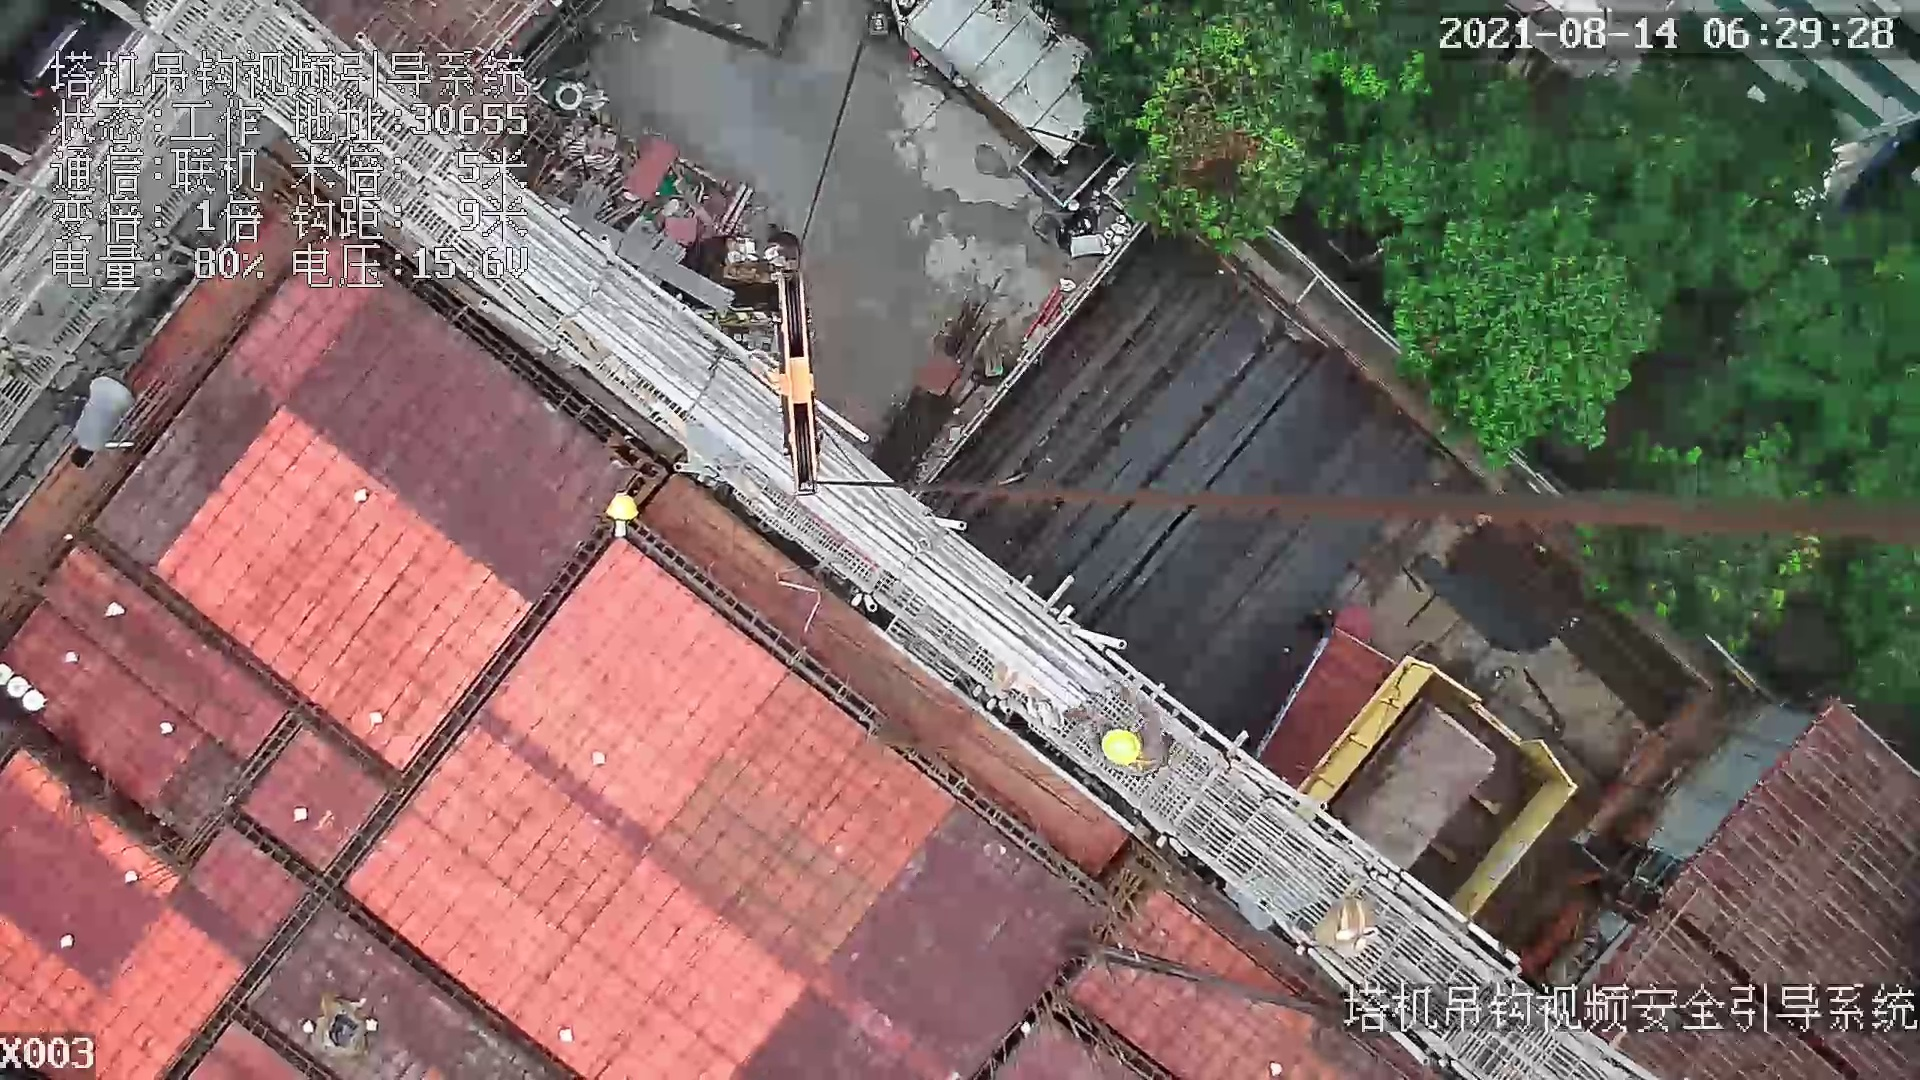helmet: (1104, 722, 1145, 768), (604, 492, 646, 530)
hook: (764, 268, 817, 496)
person: (1081, 683, 1173, 783)
rebar: (931, 226, 1406, 673)
